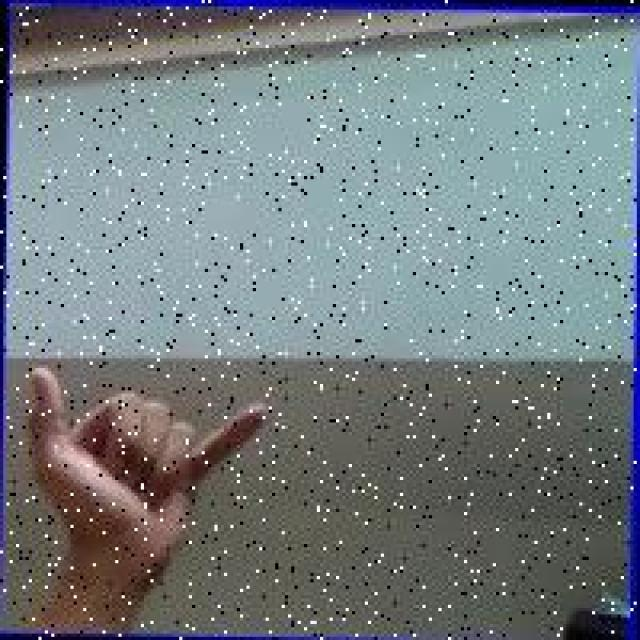Y: (16, 358, 278, 586)
